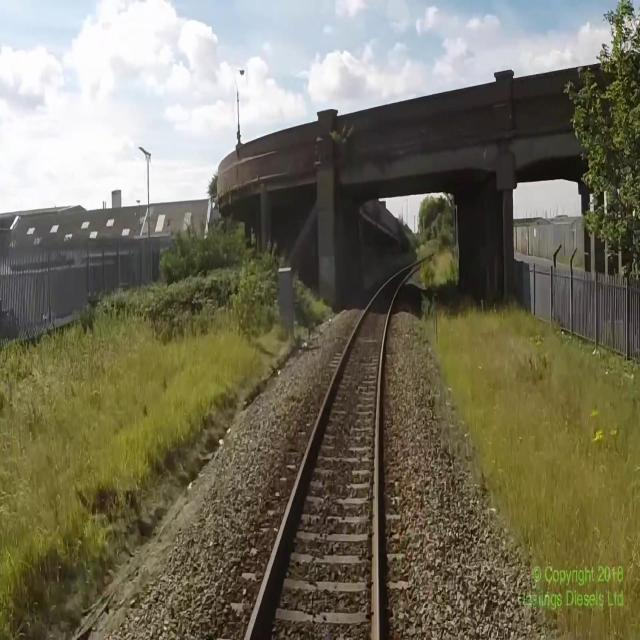rail-track: (249, 254, 433, 639)
